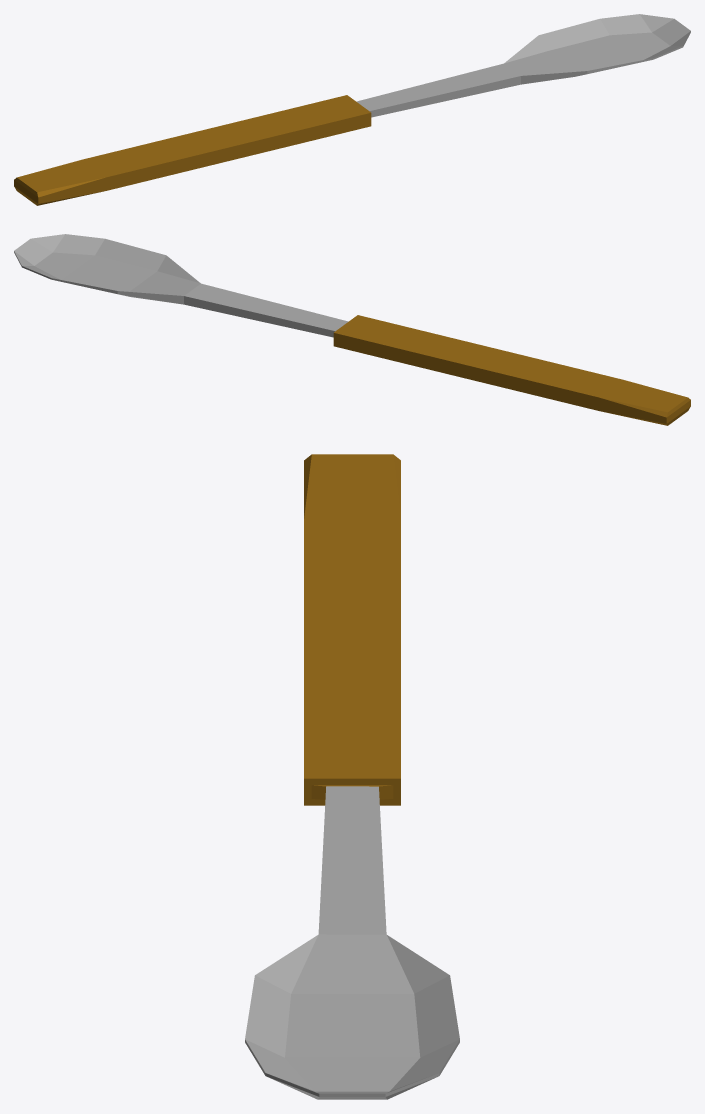
Rendered from tablespoon-01.gltf.
The picture shows the model from 3 angles, top to bottom: view 1: azimuth 30°, elevation 25°; view 2: azimuth 150°, elevation 25°; view 3: azimuth 270°, elevation 25°; orthographic projection. The views are drawn at different scales.
Visible parts, largest first — view 1: Cylinder; view 2: Cylinder; view 3: Cylinder.
Boxes of the visible parts, <box> form: Cylinder: <box>14,14,690,205</box>; Cylinder: <box>14,234,690,425</box>; Cylinder: <box>245,454,459,1099</box>.
Size of the model in its own units: 0.1924 by 0.00422 by 0.0273.
Materials: 1 (1 with a texture image).
